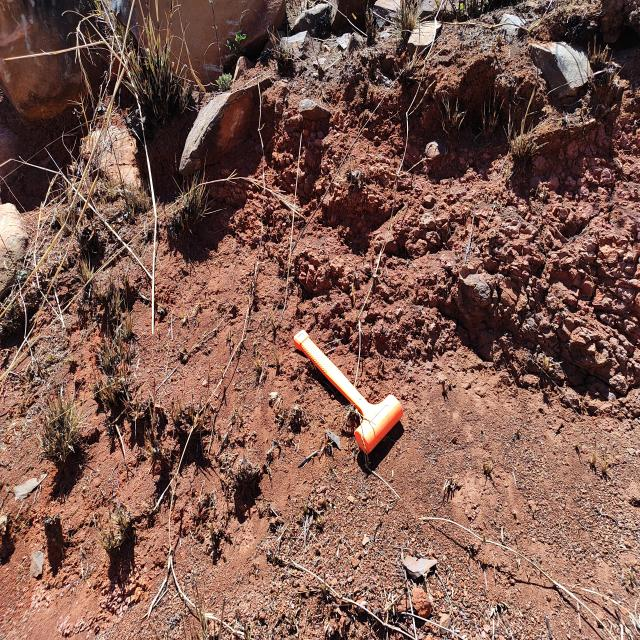Orange_hammer: (292, 328, 403, 456)
